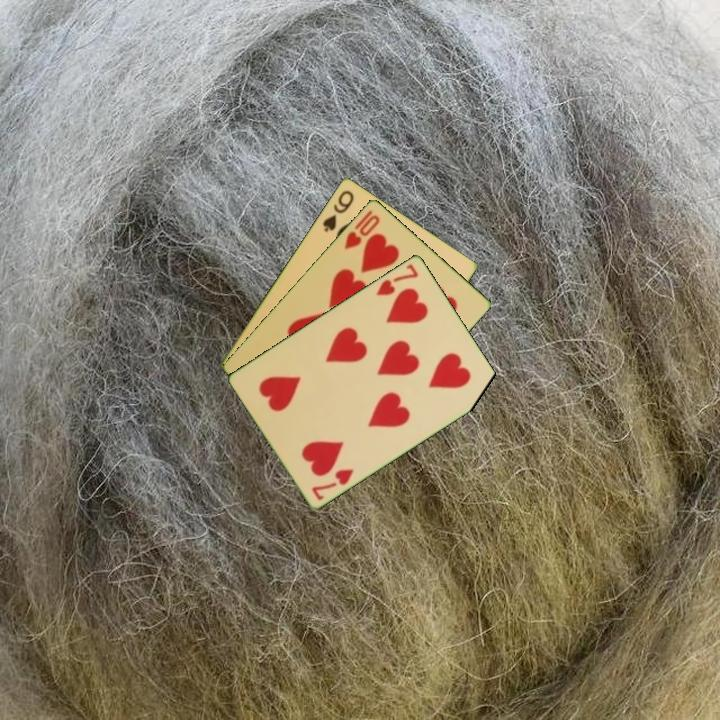10h: (341, 211, 383, 252)
7h: (372, 260, 421, 298), (308, 465, 357, 503)
9s: (319, 186, 357, 235)
